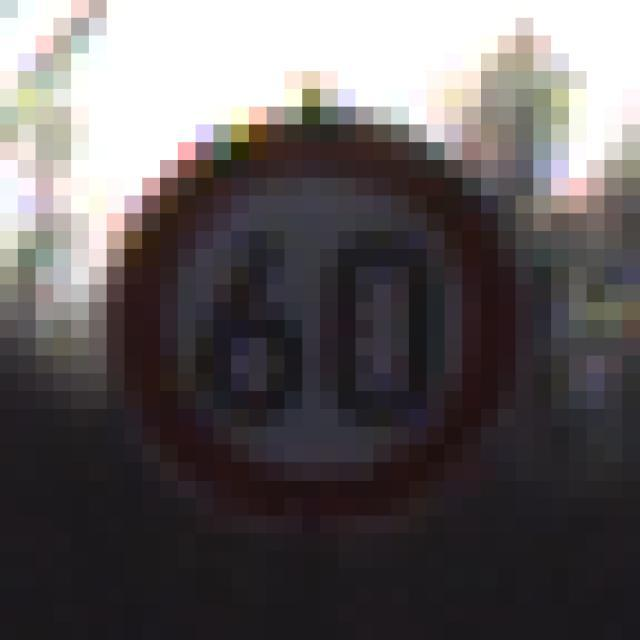Ograniczenie predkosci do 60: (120, 119, 504, 511)
